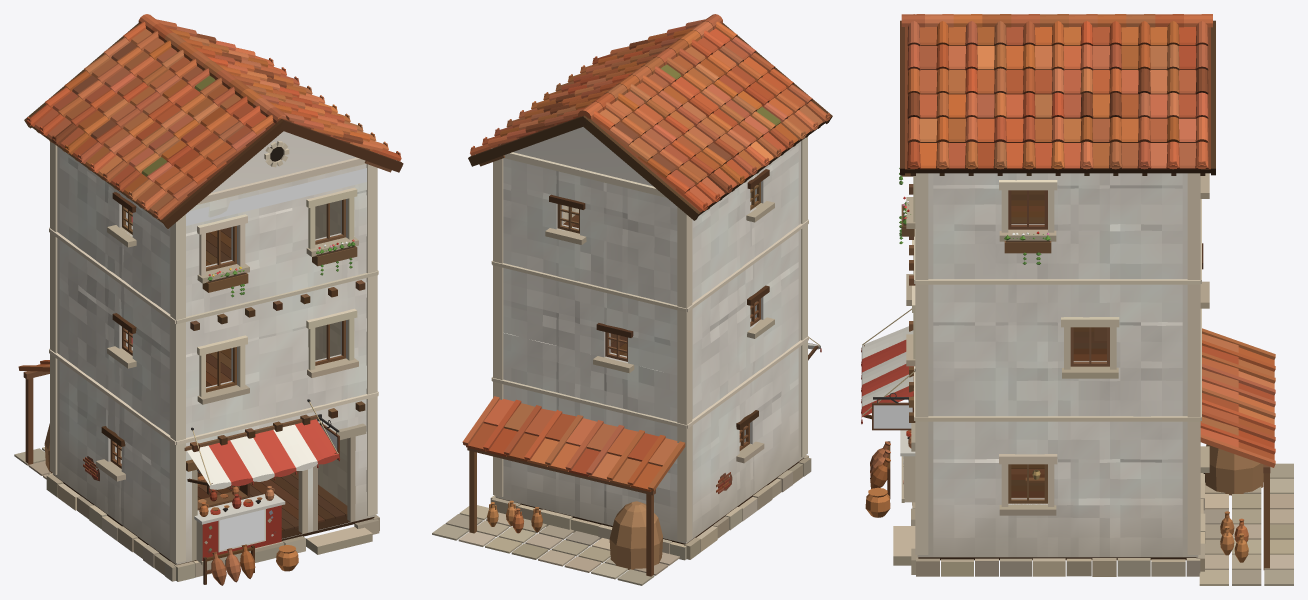
The model's file is artisan_3_3.glb.
3 renders of one model, left to right at view 1: azimuth 30°, elevation 25°; view 2: azimuth 150°, elevation 25°; view 3: azimuth 270°, elevation 25°, orthographic. The views are drawn at different scales.
Visible parts, largest first — view 1: House, Walls, Rooms, Frieze; view 2: House, Walls; view 3: House, Walls, Rooms.
Part boxes in pixels (box(x1,y1,x2,y2)): House: box(14, 14, 403, 585); Walls: box(52, 131, 374, 564); Rooms: box(120, 200, 347, 531); Frieze: box(186, 168, 366, 225); House: box(432, 14, 832, 585); Walls: box(495, 127, 805, 543); House: box(861, 14, 1293, 585); Walls: box(917, 173, 1198, 557); Rooms: box(1011, 190, 1106, 498).
Size of the model in its own units: 4.45 by 7.73 by 6.01.
Materials: 8 (8 with a texture image).
